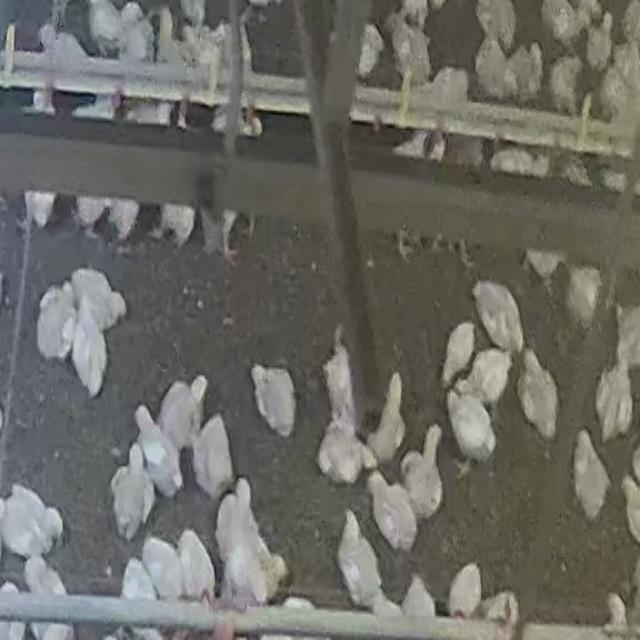chicken: (214, 479, 271, 608), (336, 514, 388, 614), (132, 404, 186, 500), (1, 483, 64, 559), (365, 466, 420, 552), (399, 427, 445, 521), (446, 386, 497, 470), (22, 558, 74, 638), (472, 279, 526, 356), (109, 445, 153, 539), (68, 267, 127, 337), (516, 349, 559, 443), (185, 412, 232, 497), (70, 300, 110, 399), (570, 430, 612, 522), (322, 333, 359, 435), (315, 419, 369, 487), (157, 374, 203, 453), (367, 371, 405, 465), (36, 283, 77, 364), (176, 528, 217, 604), (464, 345, 514, 407), (249, 368, 295, 435), (141, 535, 187, 602), (594, 363, 632, 444), (564, 265, 604, 327), (441, 321, 478, 388), (478, 37, 515, 99), (86, 0, 124, 55), (448, 562, 485, 618), (505, 43, 544, 95), (121, 556, 159, 606), (158, 202, 198, 248), (400, 575, 438, 623), (584, 10, 613, 70), (614, 304, 640, 370), (550, 57, 579, 116), (105, 198, 142, 244), (488, 146, 540, 178), (393, 128, 439, 162), (544, 0, 577, 47), (479, 589, 519, 627), (620, 477, 640, 549), (523, 248, 563, 283), (74, 197, 110, 234), (24, 191, 57, 230)
